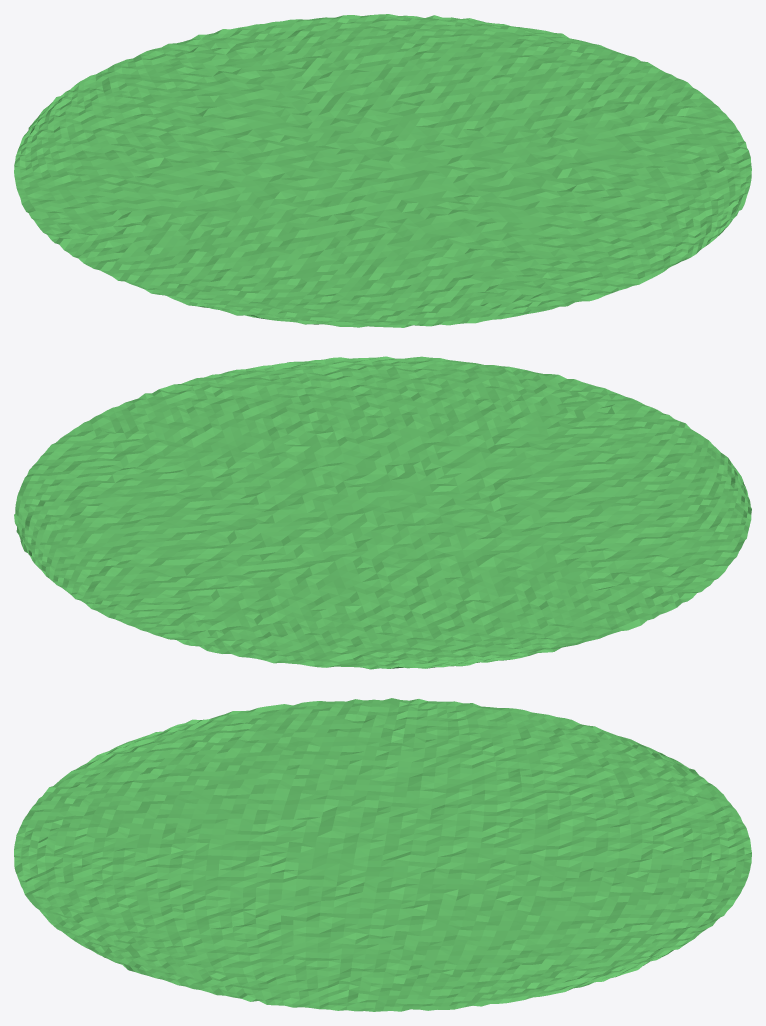
Rendered from world_1_terrain.dae.
The picture shows the model from 3 angles, top to bottom: view 1: azimuth 30°, elevation 25°; view 2: azimuth 150°, elevation 25°; view 3: azimuth 270°, elevation 25°; orthographic projection.
Parts seen in each view (by area): view 1: Circle_001; view 2: Circle_001; view 3: Circle_001.
Part boxes in pixels (<box>): Circle_001: <box>14,14,751,327</box>; Circle_001: <box>14,356,751,669</box>; Circle_001: <box>14,698,751,1011</box>.
Bounding box in the file's own units: 128 × 128 × 0.7477.
